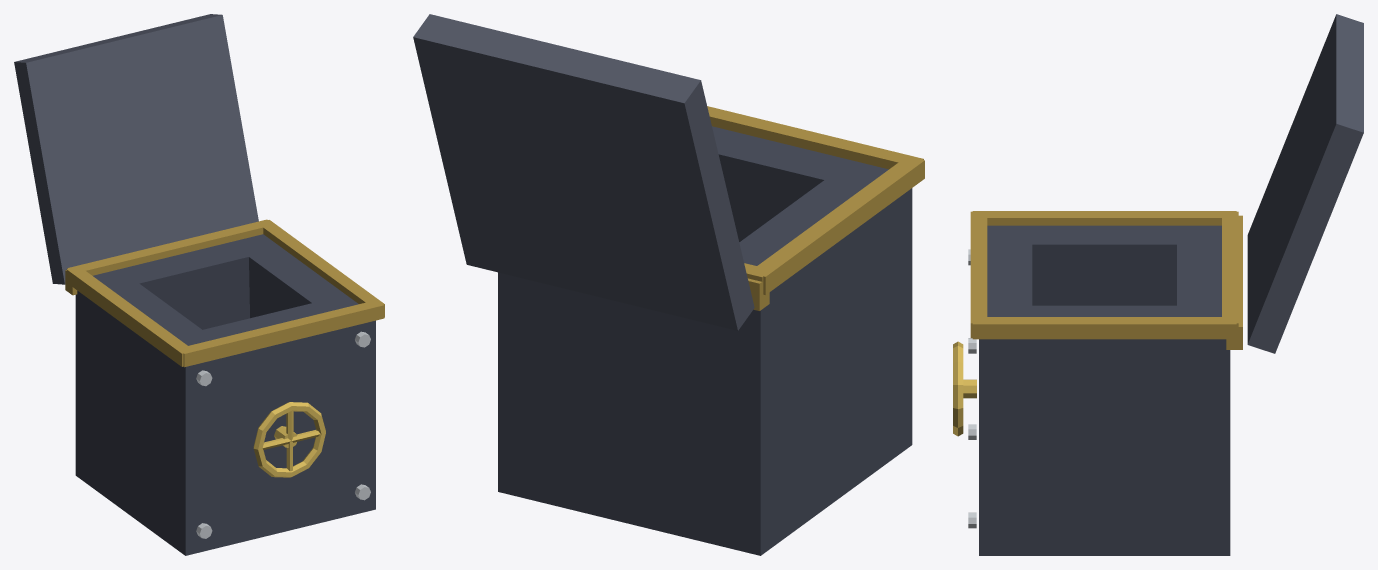
Rendered from Vault.fbx.
The picture shows the model from 3 angles, left to right: view 1: azimuth 30°, elevation 25°; view 2: azimuth 150°, elevation 25°; view 3: azimuth 270°, elevation 25°; orthographic projection. The views are drawn at different scales.
Parts seen in each view (by area): view 1: Walls, Lid, Rim, Wheel, Bolts; view 2: Walls, Lid, Rim; view 3: Walls, Lid, Rim, Wheel.
Part boxes in pixels (left/top/right/bottom): Walls: left=75, top=234, right=375, bottom=555; Lid: left=14, top=14, right=258, bottom=284; Rim: left=65, top=219, right=384, bottom=367; Wheel: left=253, top=402, right=325, bottom=477; Bolts: left=196, top=331, right=370, bottom=538; Walls: left=498, top=126, right=912, bottom=555; Lid: left=413, top=14, right=754, bottom=330; Rim: left=707, top=106, right=924, bottom=310; Walls: left=979, top=225, right=1230, bottom=555; Lid: left=1247, top=14, right=1363, bottom=353; Rim: left=970, top=211, right=1242, bottom=349; Wheel: left=953, top=341, right=976, bottom=436.
Size of the model in its own units: 3.2 by 5.72 by 4.91.
